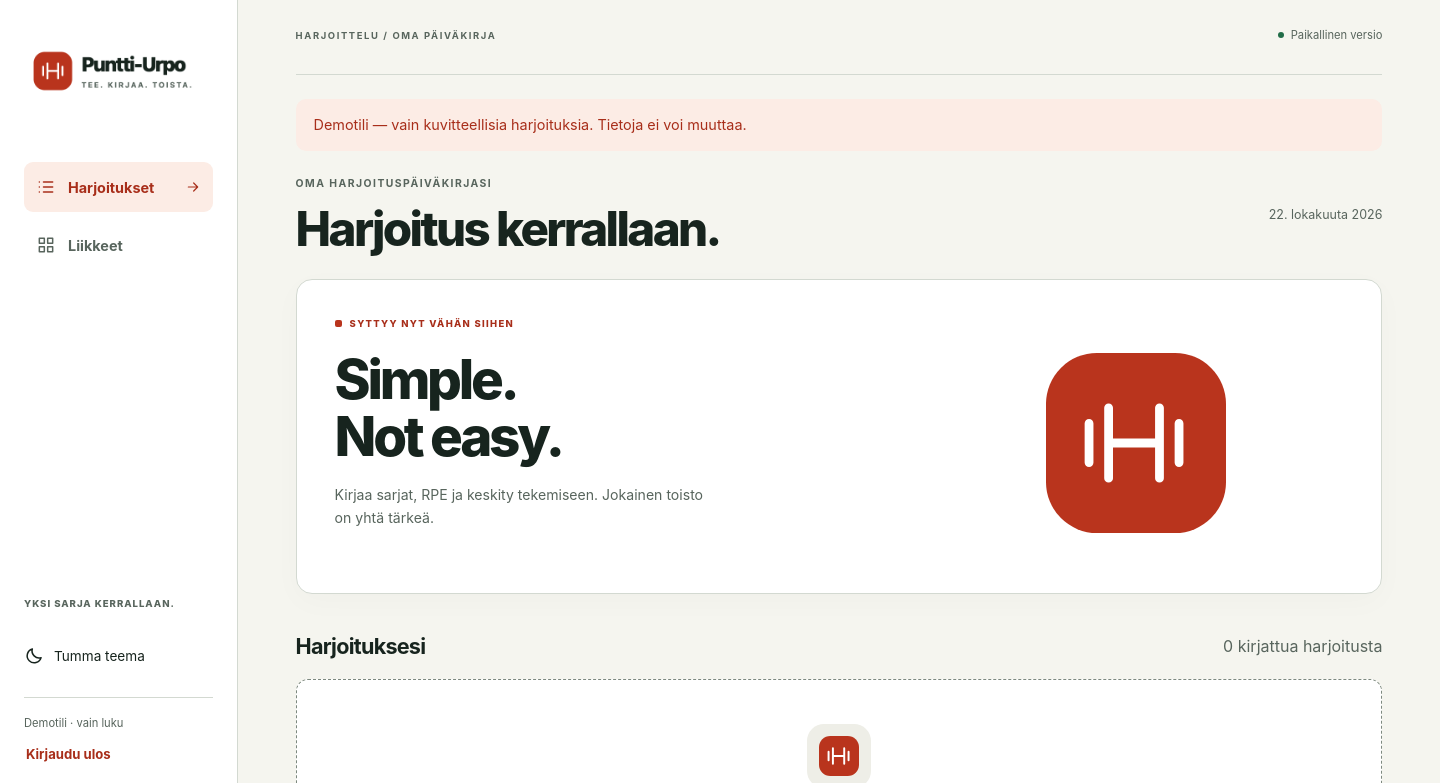
shows demo mode without create controls or private custom exercises
expect the text "Demotili — vain kuvitteellisia harjoituksia. Tietoja ei voi muuttaa." is shown: met, box [296,99,1382,151]
Click the link "Liikkeet" at (79, 245), box [36,235,123,255]
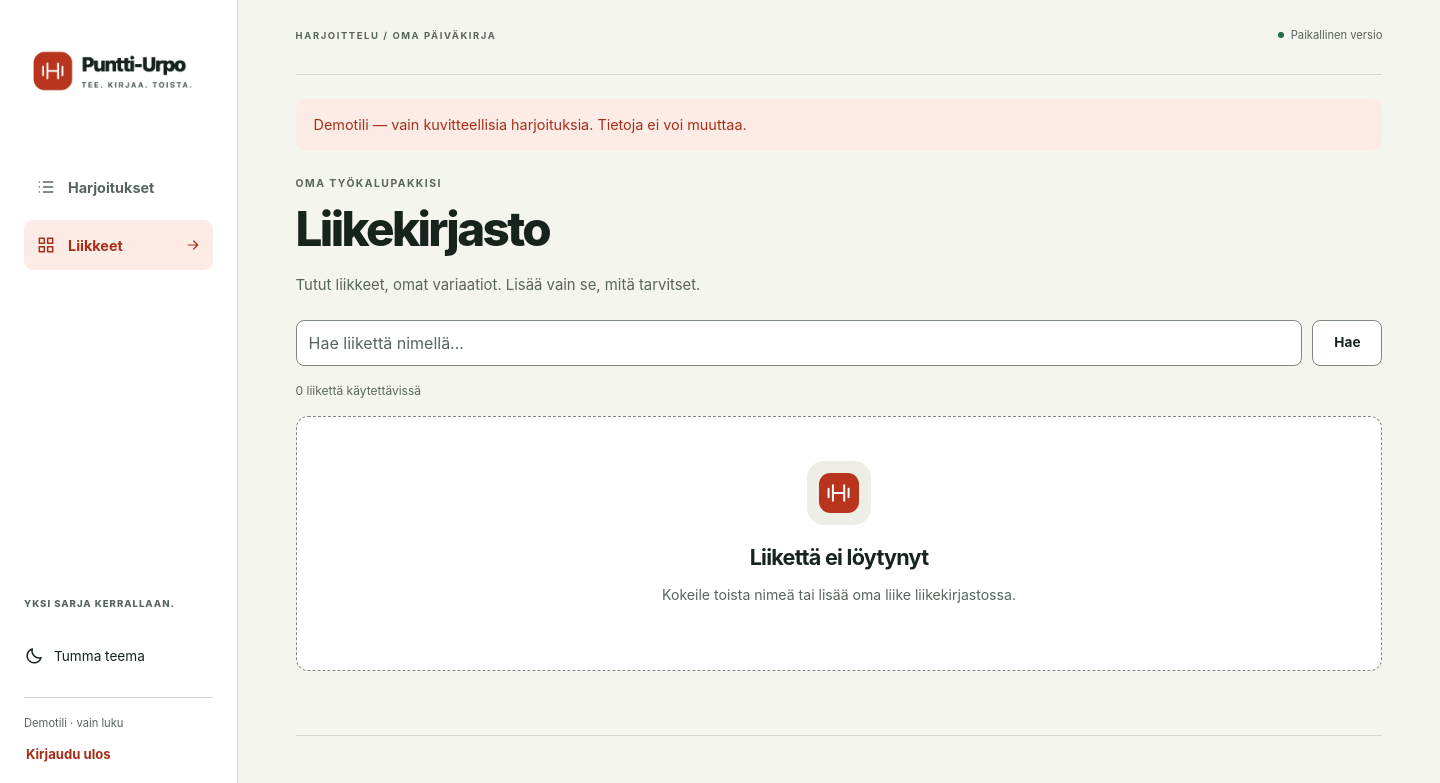
expect the heading "Liikekirjasto" is shown: met, box [296,203,549,255]
